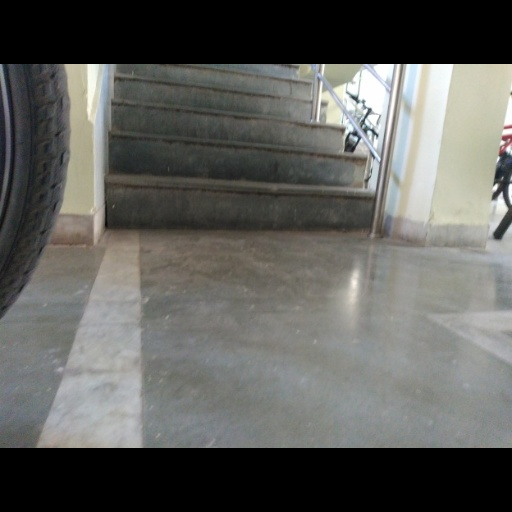Stairs: (106, 65, 374, 227)
